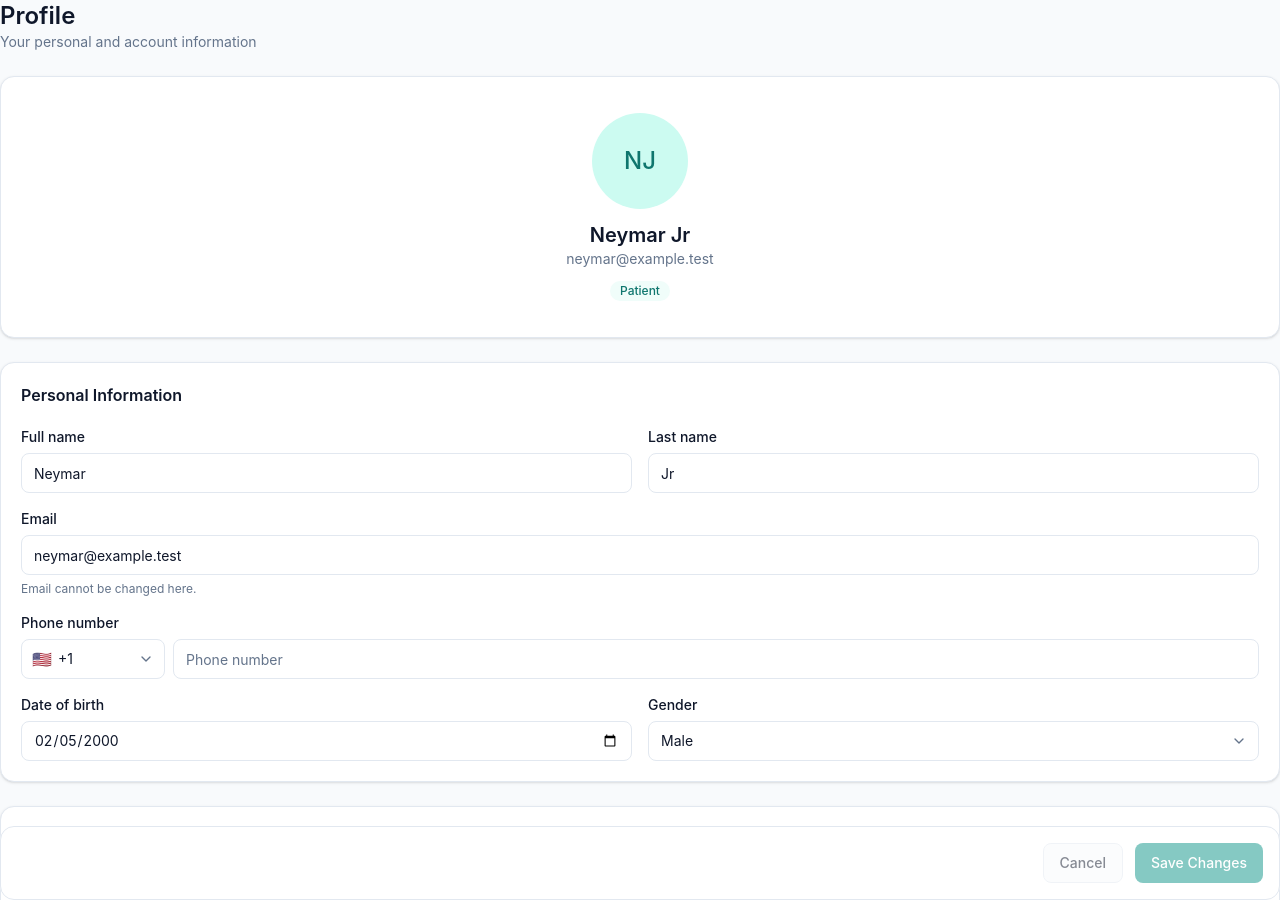
PatientProfilePage › warns before discarding unsaved changes via Cancel, and reverts them on confirm
The width and height of the screenshot is (1280, 900).
Step 1. Replace the text in the field labelled "Full name" with "Junior" → (326,473), box [21,453,632,493]
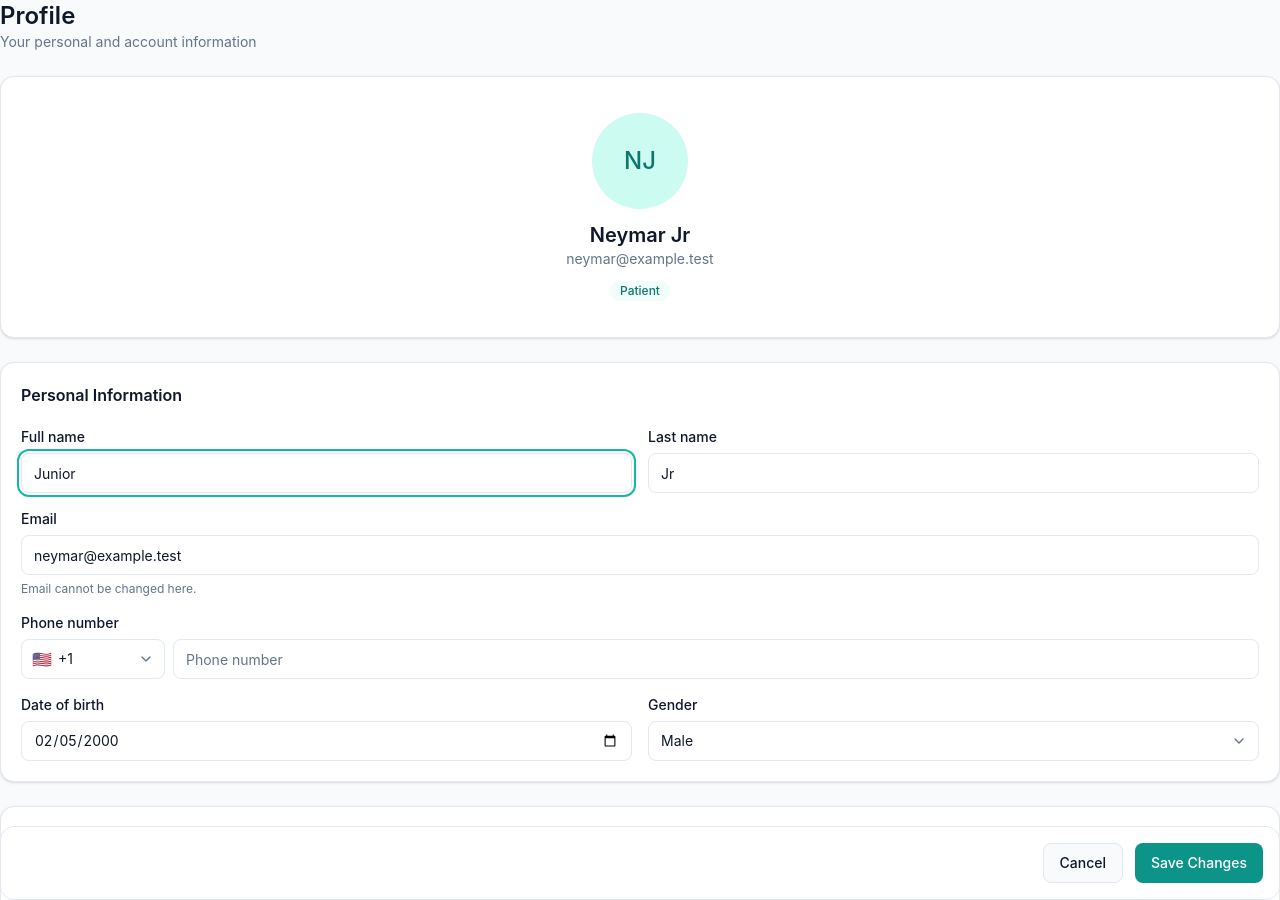
Step 2. Click the button "Cancel" → (1083,863), box [1042,843,1123,883]
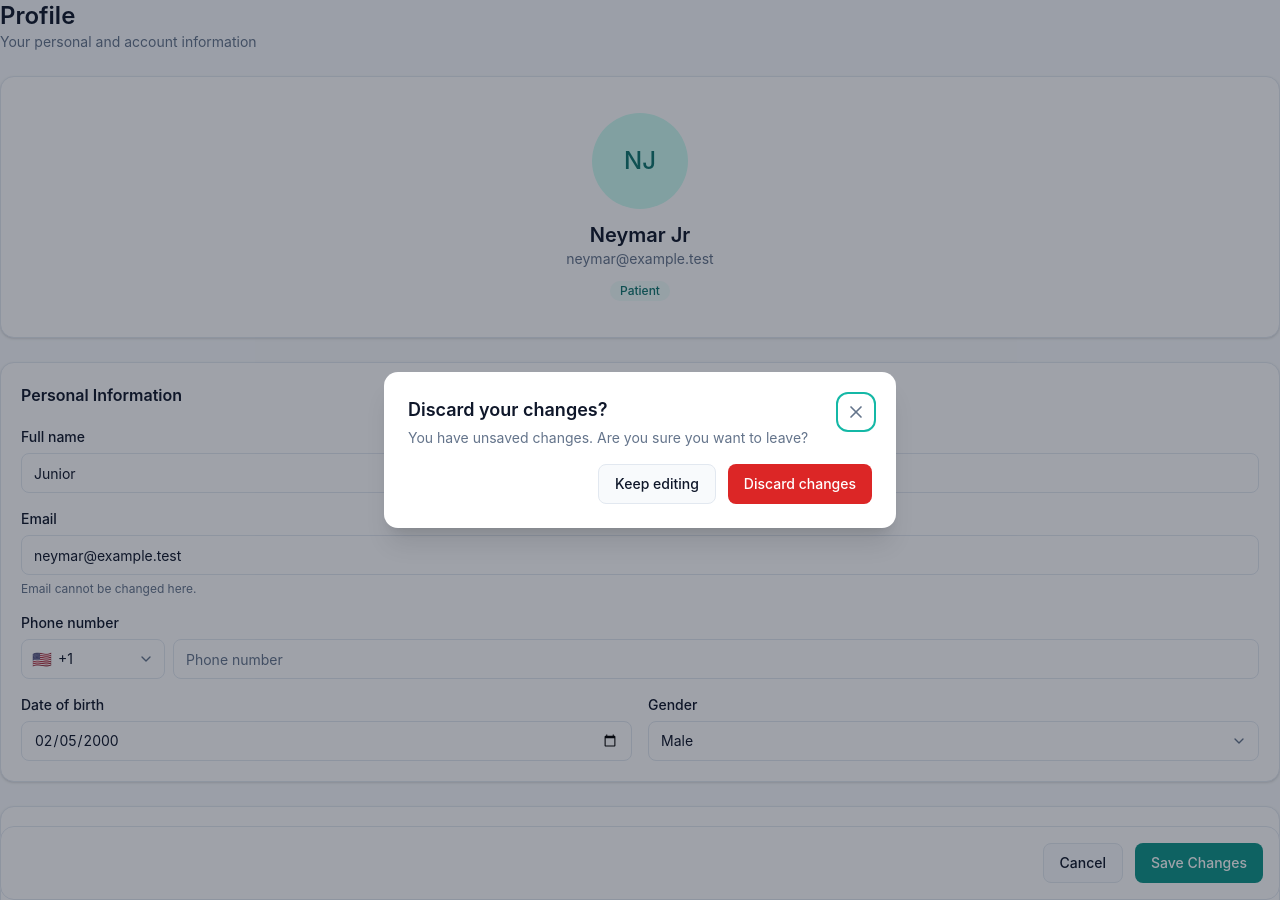
Expected: the heading "Discard your changes?" is shown, [408,399,608,420]
Step 3. Click the button "Discard changes" → (800,484), box [728,464,872,504]
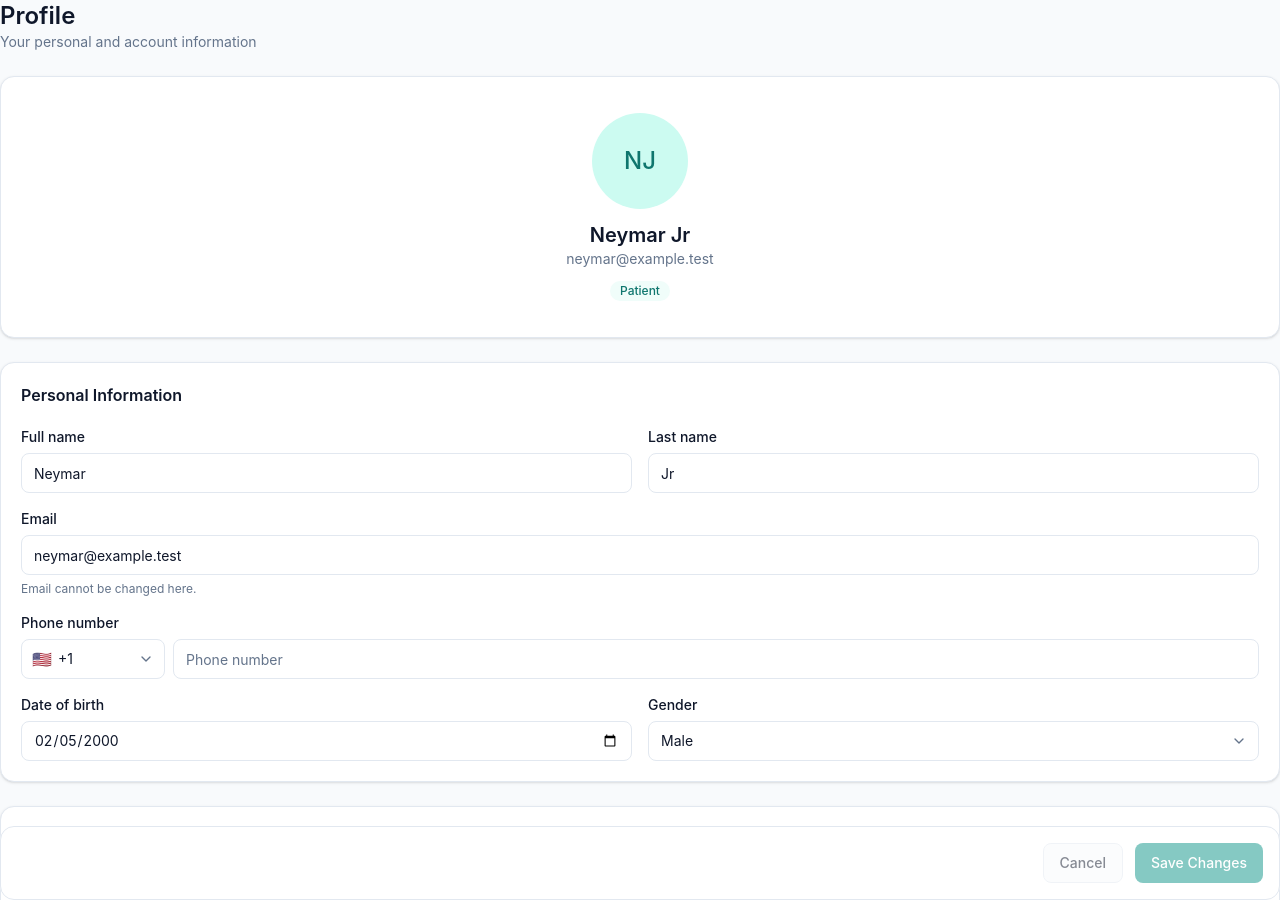
Expected: the field showing "Neymar" is shown, [21,453,632,493]
